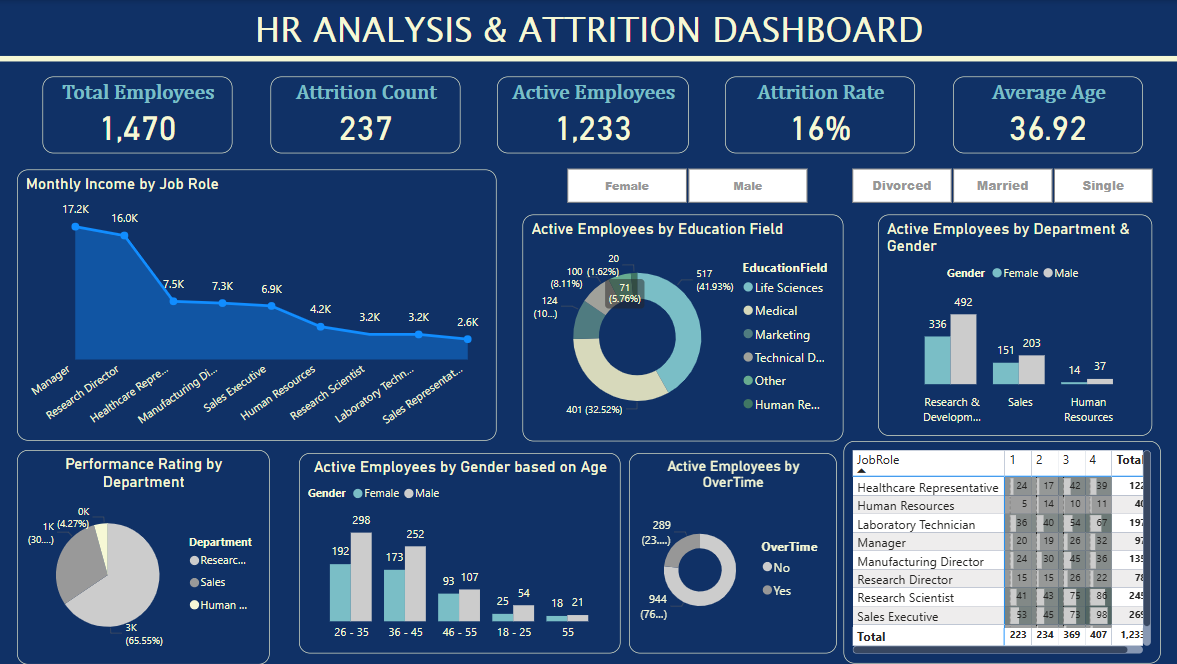

What the dashboard file says about the page in this screenshot:
{"tool":"powerbi","page":{"name":"Page 1","canvas":[1280,720],"ordinal":0},"visuals":[{"type":"shape","box":[0,46.2,1280,36.2],"z":0},{"type":"card","title":"Total Employees","fields":{"Values":["HR-Employee-Attrition.Total Employees"]},"box":[47.7,82.4,206,83.2],"z":1000},{"type":"card","title":"Attrition Count","fields":{"Values":["Sum(HR-Employee-Attrition.Attrition Count)"]},"box":[293.8,82.4,206,83.2],"z":2000},{"type":"card","title":"Attrition Rate","fields":{"Values":["HR-Employee-Attrition.Attrition Rate"]},"box":[788,82.4,206,83.2],"z":3000},{"type":"card","title":"Active Employees","fields":{"Values":["HR-Employee-Attrition.Active Employees"]},"box":[539.9,82.4,207.9,83.2],"z":4000},{"type":"card","title":"Average Age","fields":{"Values":["Avg(HR-Employee-Attrition.Age)"]},"box":[1034.1,82.4,206,83.2],"z":5000},{"type":"areaChart","title":"Monthly Income by Job Role","fields":{"Category":["HR-Employee-Attrition.JobRole"],"Y":["Avg(HR-Employee-Attrition.MonthlyIncome)"]},"box":[20,184,520,294],"z":6000},{"type":"donutChart","title":"Active Employees by Education Field","fields":{"Category":["HR-Employee-Attrition.EducationField"],"Y":["HR-Employee-Attrition.Active Employees"]},"box":[568,232,348,246],"z":7000},{"type":"clusteredColumnChart","title":"Active Employees by Department & Gender","fields":{"Y":["HR-Employee-Attrition.Active Employees"],"Category":["HR-Employee-Attrition.Department"],"Series":["HR-Employee-Attrition.Gender"]},"box":[952.5,232.5,297.5,240],"z":8000},{"type":"pieChart","title":"Performance Rating by Department","fields":{"Y":["Sum(HR-Employee-Attrition.PerformanceRating)"],"Category":["HR-Employee-Attrition.Department"]},"box":[20,487.5,273.8,232.5],"z":9000},{"type":"clusteredColumnChart","title":"Active Employees by Gender based on Age ","fields":{"Category":["HR-Employee-Attrition (3).AgeGroup"],"Y":["HR-Employee-Attrition.Active Employees"],"Series":["HR-Employee-Attrition (3).Gender"]},"box":[325,491.2,348.8,217.5],"z":10000},{"type":"slicer","fields":{"Values":["HR-Employee-Attrition.Gender"]},"box":[590,175,310,51.2],"z":11000},{"type":"textbox","box":[0,0,1280,78],"z":12000},{"type":"pivotTable","fields":{"Rows":["HR-Employee-Attrition.JobRole"],"Values":["HR-Employee-Attrition.Active Employees"],"Columns":["HR-Employee-Attrition.JobSatisfaction"]},"box":[915,478.8,343.8,241.2],"z":13000},{"type":"donutChart","fields":{"Y":["HR-Employee-Attrition.Active Employees"],"Category":["HR-Employee-Attrition (3).OverTime"]},"box":[682.5,491.2,225,217.5],"z":14000},{"type":"slicer","fields":{"Values":["HR-Employee-Attrition.MaritalStatus"]},"box":[898.9,175.6,375.6,51.1],"z":15000}]}

Visuals, with their boxes in screenshot pixels (x1, y1, x2, y2), scaled from the page's 1280x720 canvas onto the 1177x664 screenshot:
shape: (left=0, top=43, right=1176, bottom=76)
"Total Employees" card: (left=44, top=76, right=233, bottom=153)
"Attrition Count" card: (left=270, top=76, right=460, bottom=153)
"Attrition Rate" card: (left=725, top=76, right=914, bottom=153)
"Active Employees" card: (left=496, top=76, right=688, bottom=153)
"Average Age" card: (left=951, top=76, right=1140, bottom=153)
"Monthly Income by Job Role" areaChart: (left=18, top=170, right=497, bottom=441)
"Active Employees by Education Field" donutChart: (left=522, top=214, right=842, bottom=441)
"Active Employees by Department & Gender" clusteredColumnChart: (left=876, top=214, right=1149, bottom=436)
"Performance Rating by Department" pieChart: (left=18, top=450, right=270, bottom=663)
"Active Employees by Gender based on Age " clusteredColumnChart: (left=299, top=453, right=620, bottom=654)
slicer - HR-Employee-Attrition.Gender: (left=543, top=161, right=828, bottom=209)
textbox: (left=0, top=0, right=1176, bottom=72)
pivotTable - HR-Employee-Attrition.JobRole x HR-Employee-Attrition.Active Employees: (left=841, top=442, right=1158, bottom=663)
donutChart - HR-Employee-Attrition.Active Employees x HR-Employee-Attrition (3).OverTime: (left=628, top=453, right=834, bottom=654)
slicer - HR-Employee-Attrition.MaritalStatus: (left=827, top=162, right=1172, bottom=209)
